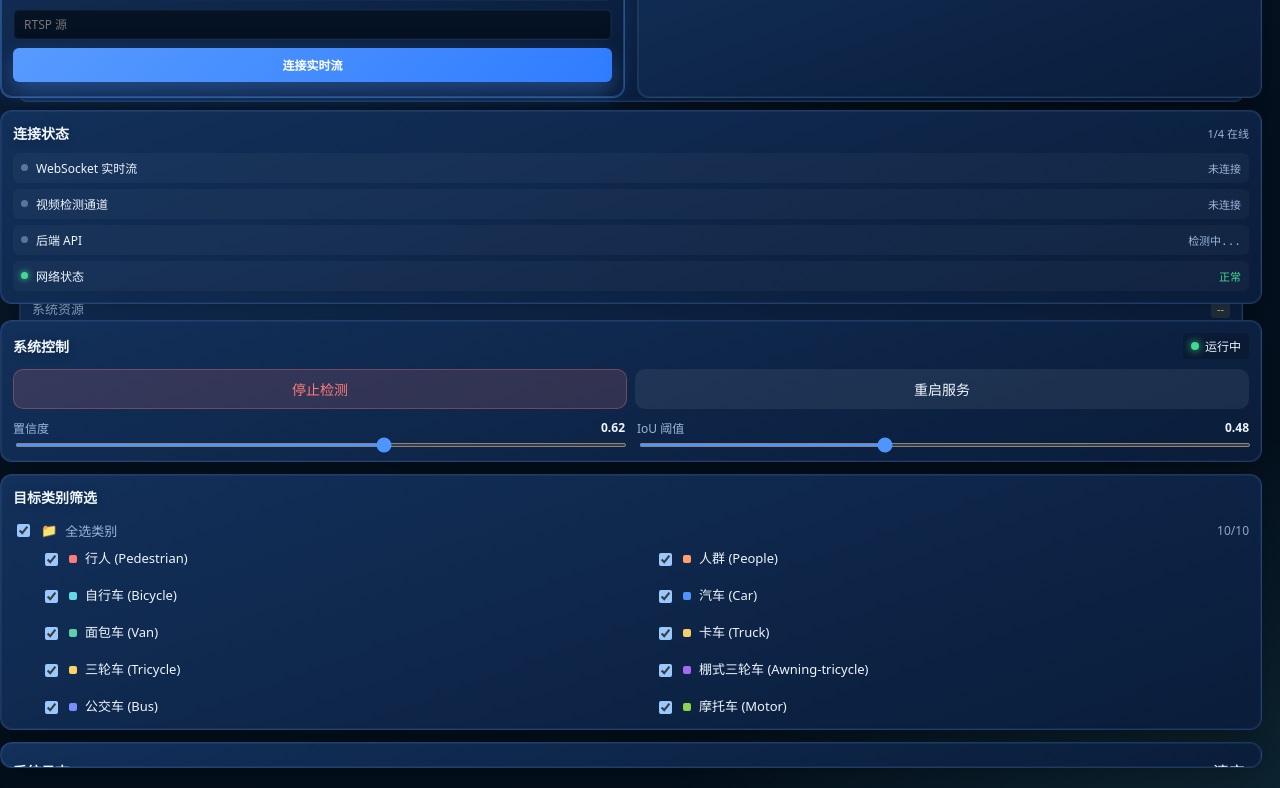
it: DashboardView › toggles system status when button clicked
The image size is (1280, 788).
(page scrolled)
Click the button "停止检测" at (320, 389), box [13, 369, 627, 409]
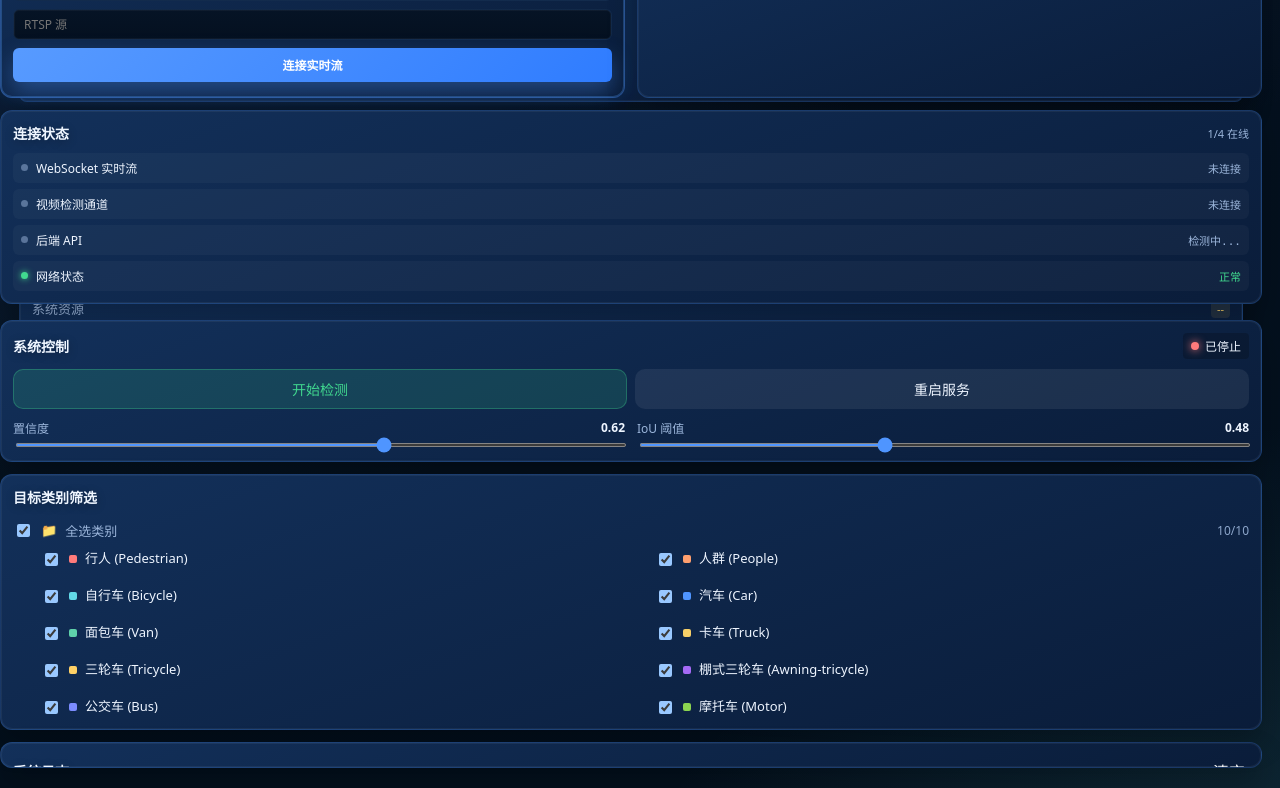
Expected: the button "开始检测" is shown, [13, 369, 627, 409]
